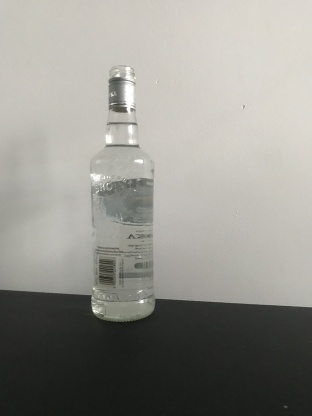nakretka: (106, 62, 137, 113)
